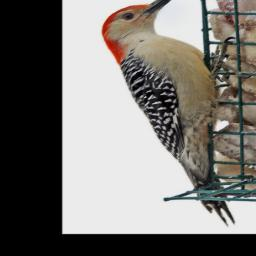Woodpecker: (102, 0, 237, 228)
